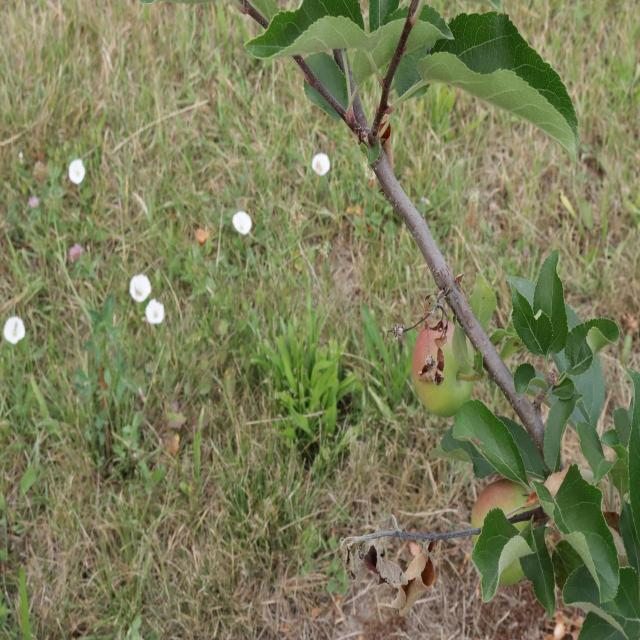-FireBlight-: (339, 533, 438, 614), (395, 287, 448, 387)
